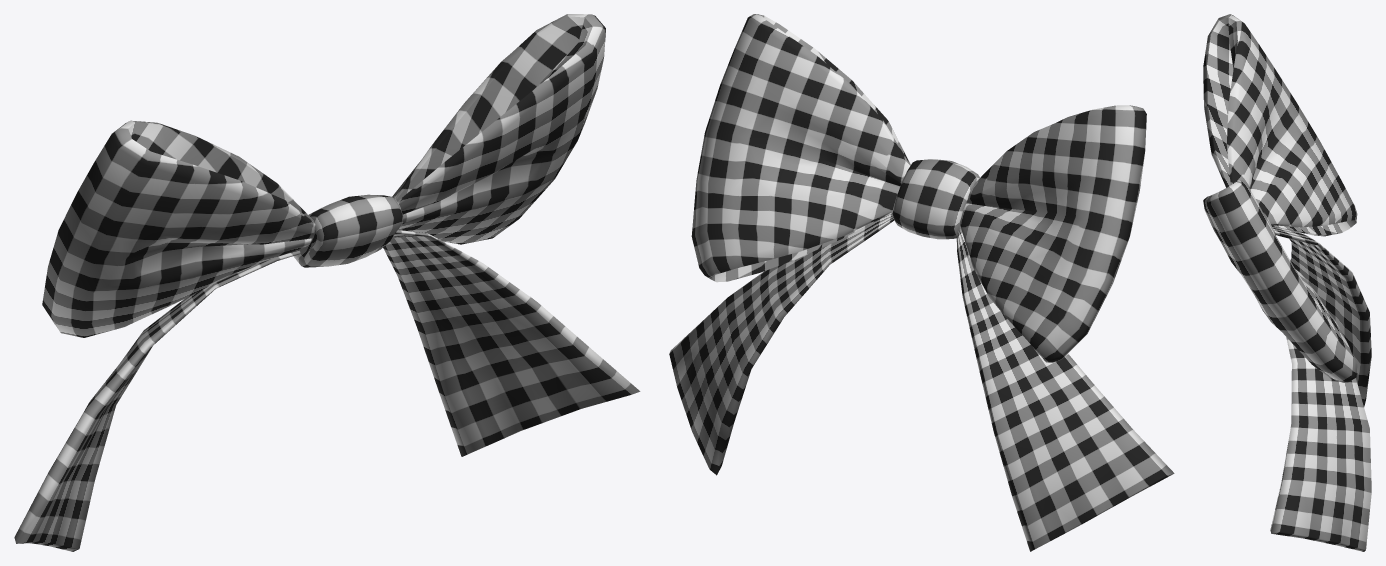
The model's file is pm0012_00_Rig.fbx.
3 renders of one model, left to right at view 1: azimuth 30°, elevation 25°; view 2: azimuth 150°, elevation 25°; view 3: azimuth 270°, elevation 25°, orthographic. The views are drawn at different scales.
Visible parts, largest first — view 1: Fashionweek2021Skin; view 2: Fashionweek2021Skin; view 3: Fashionweek2021Skin.
Boxes of the visible parts, x1=… form: Fashionweek2021Skin: x1=14, y1=14, x2=640, y2=551; Fashionweek2021Skin: x1=669, y1=14, x2=1174, y2=551; Fashionweek2021Skin: x1=1203, y1=14, x2=1371, y2=551.
Bounding box in the file's own units: 0.3111 × 0.2366 × 0.0957.
1 material, 1 textured.
